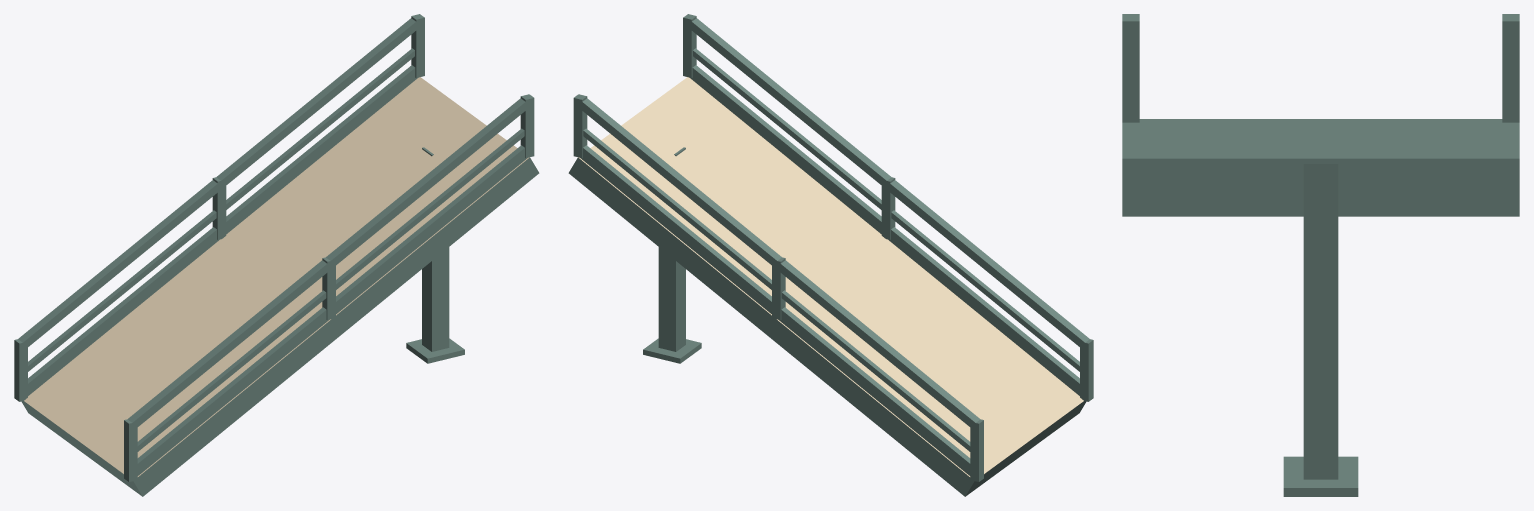
The model's file is Walkway_Ramp.glb.
3 views of the same model, side by side, from view 1: azimuth 30°, elevation 25°; view 2: azimuth 150°, elevation 25°; view 3: azimuth 270°, elevation 25° (orthographic). The views are drawn at different scales.
Parts seen in each view (by area): view 1: Walkway_Ramp; view 2: Walkway_Ramp; view 3: Walkway_Ramp.
Part boxes in pixels (box(x1,y1,x2,y2)): Walkway_Ramp: box(14, 14, 539, 496); Walkway_Ramp: box(568, 14, 1093, 496); Walkway_Ramp: box(1122, 14, 1519, 496).
Size of the model in its own units: 3.31 by 2.34 by 1.6.
